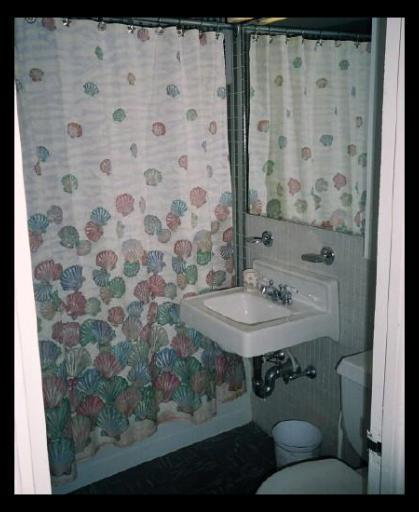Bote de Basura: (265, 416, 326, 457)
Ducha: (51, 31, 235, 484)
Lavamanos: (176, 258, 336, 400)
Sanitario: (257, 360, 365, 493)
